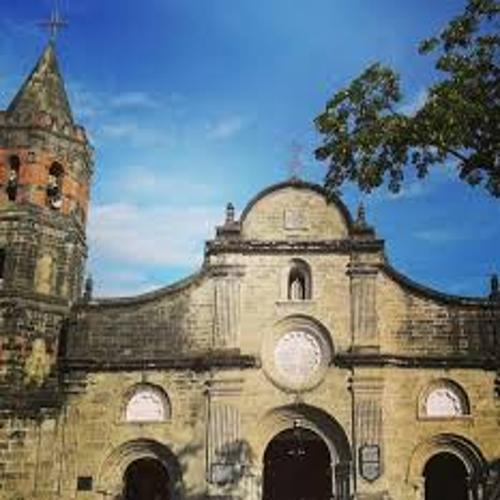Barasoain Church: (2, 7, 500, 500)
